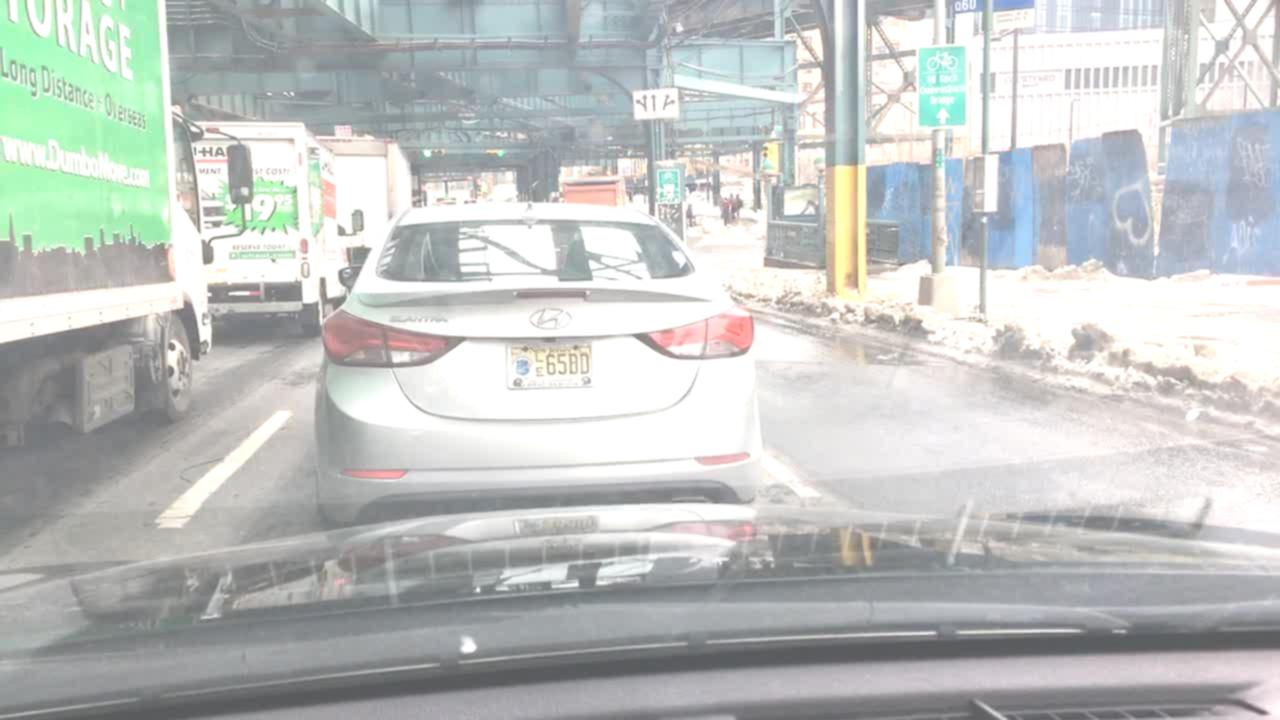Hyundai: (524, 307, 584, 333)
